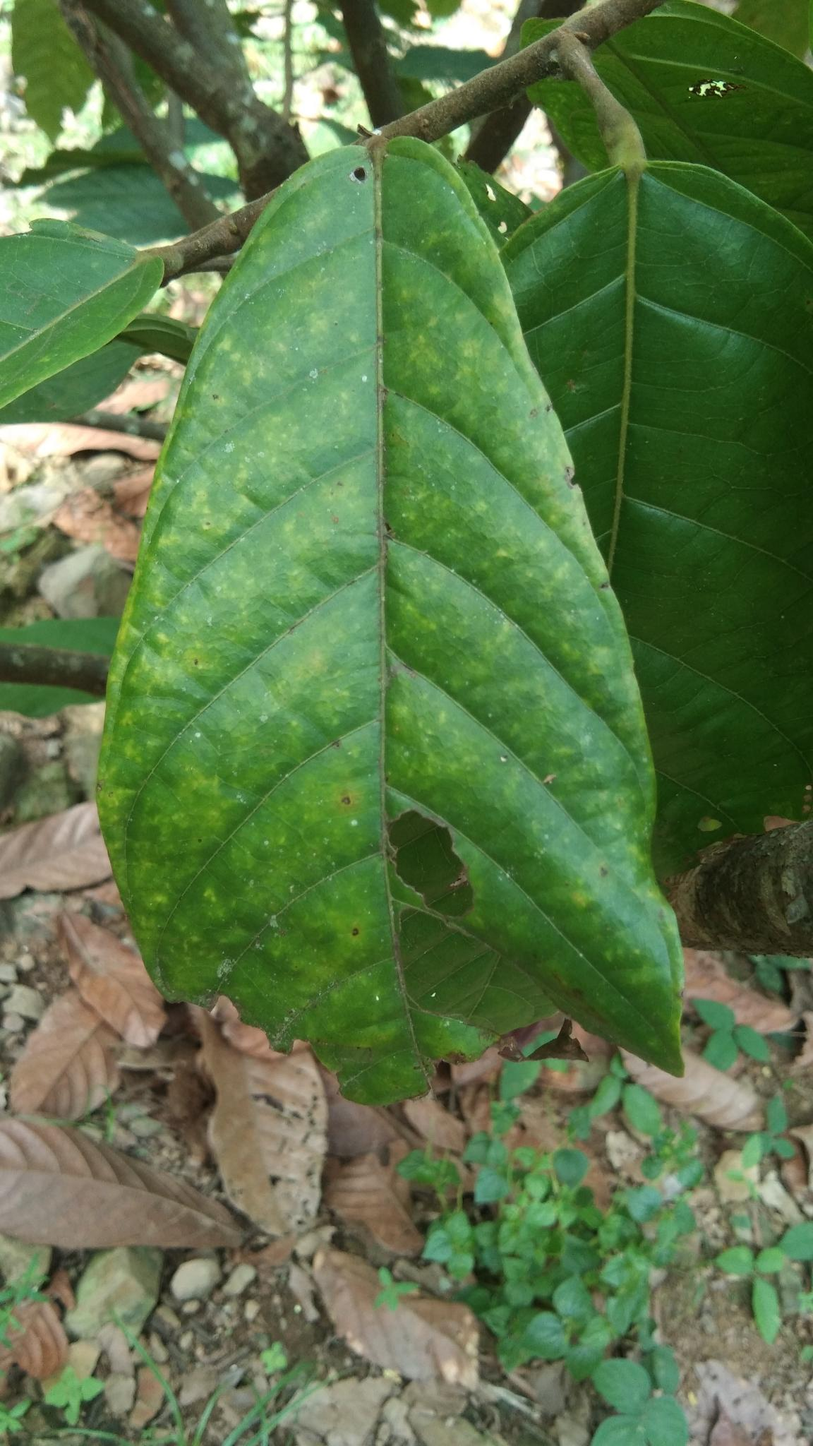Fosforo: (90, 156, 688, 1095)
